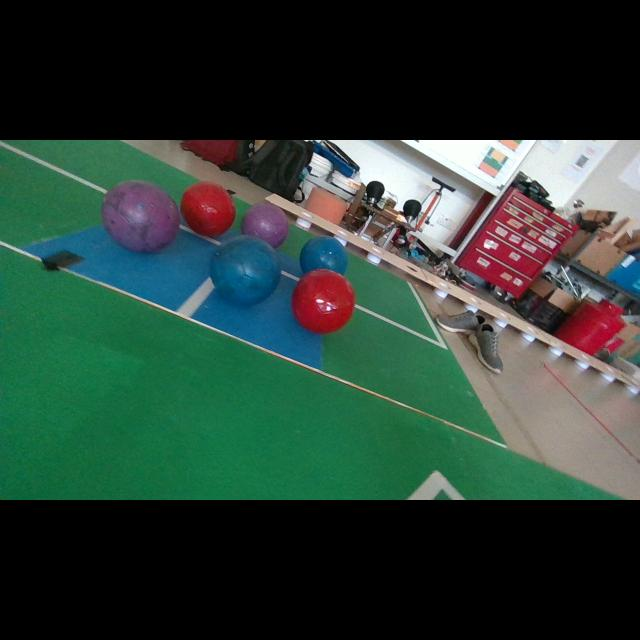B: (210, 235, 281, 305), (300, 238, 348, 274)
P: (101, 180, 181, 252), (241, 202, 289, 248)
R: (291, 269, 355, 334), (181, 181, 236, 238)
